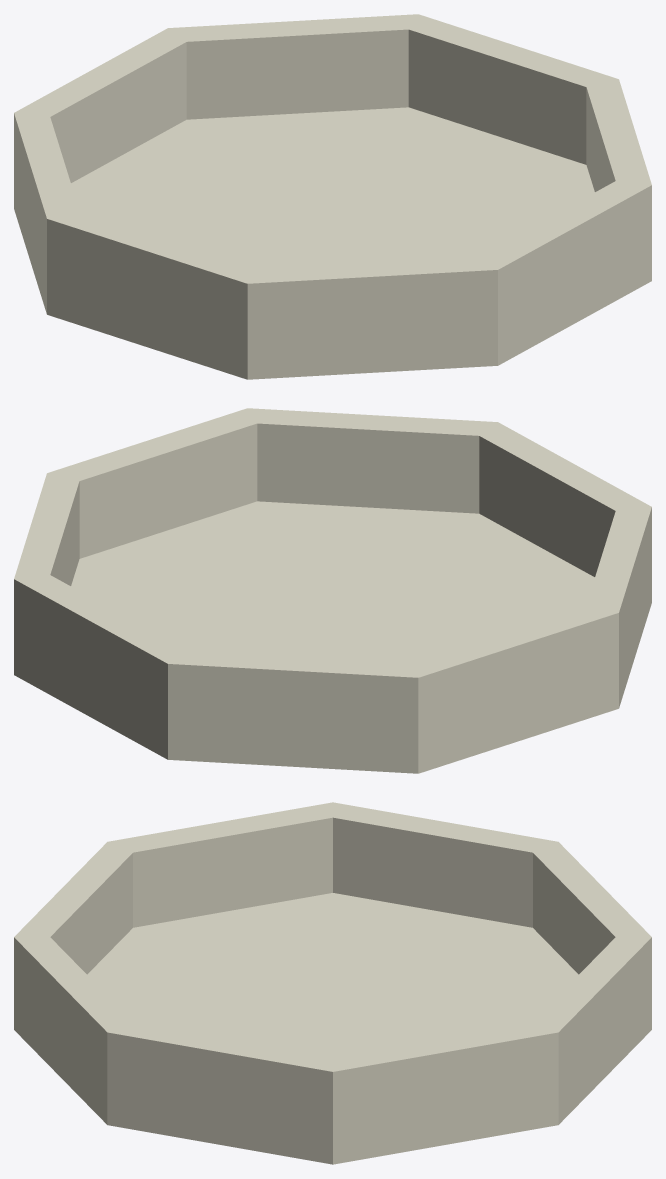
Rendered from petri-dish.fbx.
The picture shows the model from 3 angles, top to bottom: view 1: azimuth 30°, elevation 25°; view 2: azimuth 150°, elevation 25°; view 3: azimuth 270°, elevation 25°; orthographic projection. The views are drawn at different scales.
Parts seen in each view (by area): view 1: petri_dish; view 2: petri_dish; view 3: petri_dish.
Boxes of the visible parts, box(x1,y1,x2,y2) form: petri_dish: box(14, 14, 651, 379); petri_dish: box(14, 408, 651, 773); petri_dish: box(14, 802, 651, 1164).
Size of the model in its own units: 18.79 by 3.01 by 18.79.
